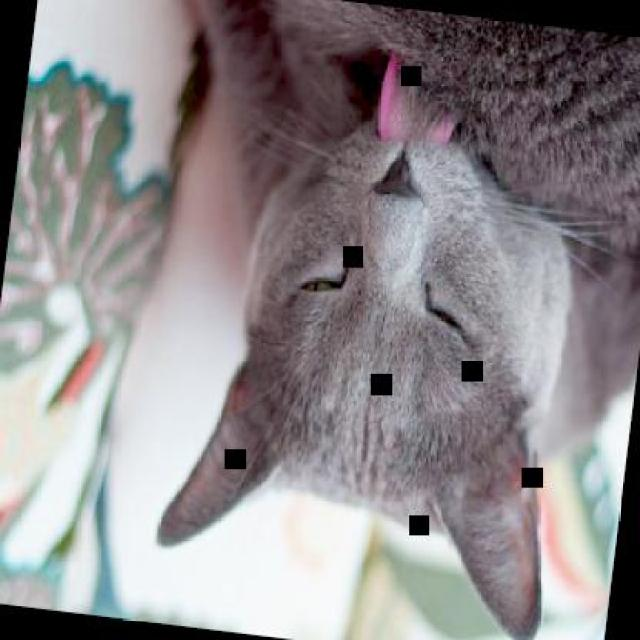cat: (121, 0, 638, 638)
